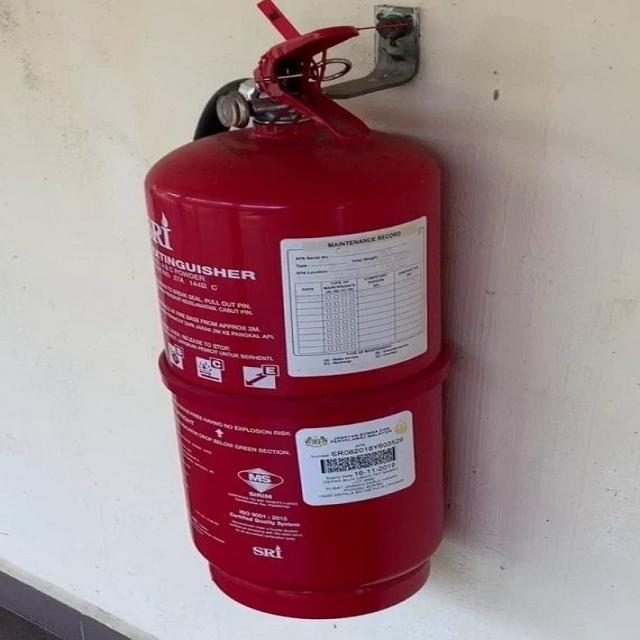fire_extinguisher: (135, 0, 460, 625)
